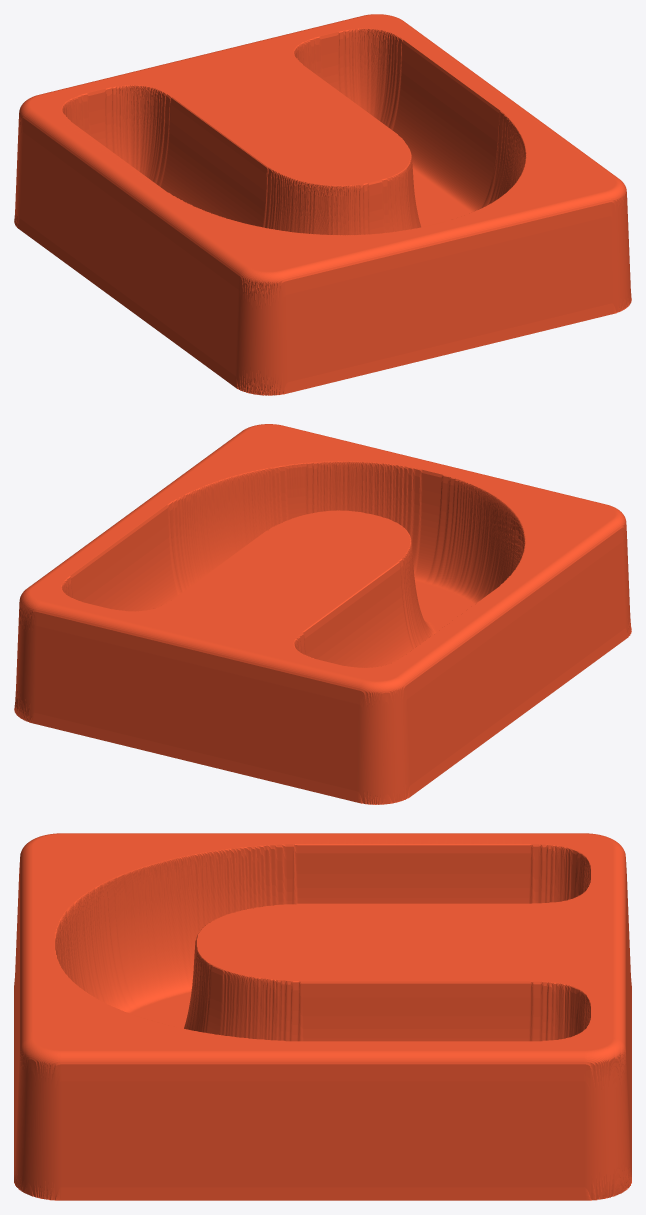
Rendered from mold.glb.
The picture shows the model from 3 angles, top to bottom: view 1: azimuth 30°, elevation 25°; view 2: azimuth 150°, elevation 25°; view 3: azimuth 270°, elevation 25°; orthographic projection. The views are drawn at different scales.
Visible parts, largest first — view 1: geometry_0; view 2: geometry_0; view 3: geometry_0.
Part boxes in pixels (x1,y1,x2,y2): geometry_0: (14, 14, 631, 395); geometry_0: (14, 424, 631, 804); geometry_0: (14, 833, 631, 1200).
Bounding box in the file's own units: 0.1046 × 0.0299 × 0.1178.
